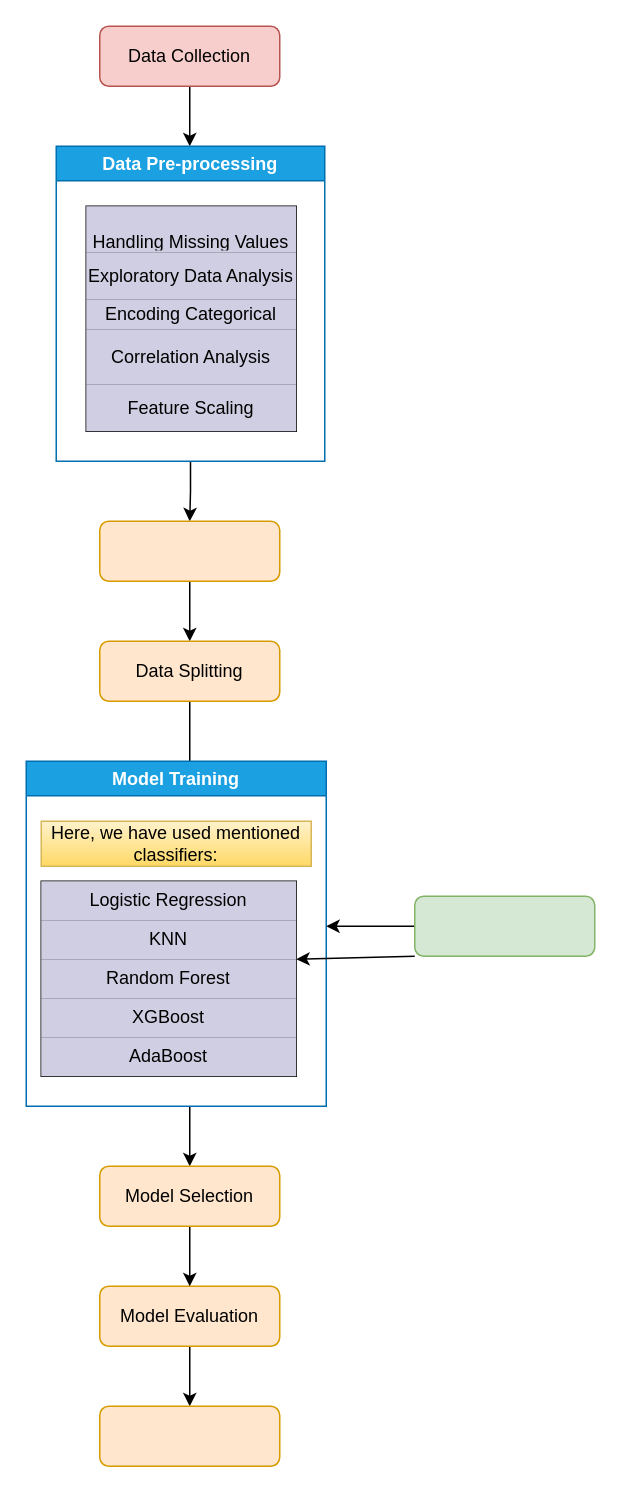
Image size: 621x1493. Some labels were removed from this diagram. Here are the shapes that lost their labels. From the top down, the centre of each, then its label:
(x=189, y=550): Feature Selection
(x=504, y=925): Model Tuning
(x=189, y=1435): Model Deployment
